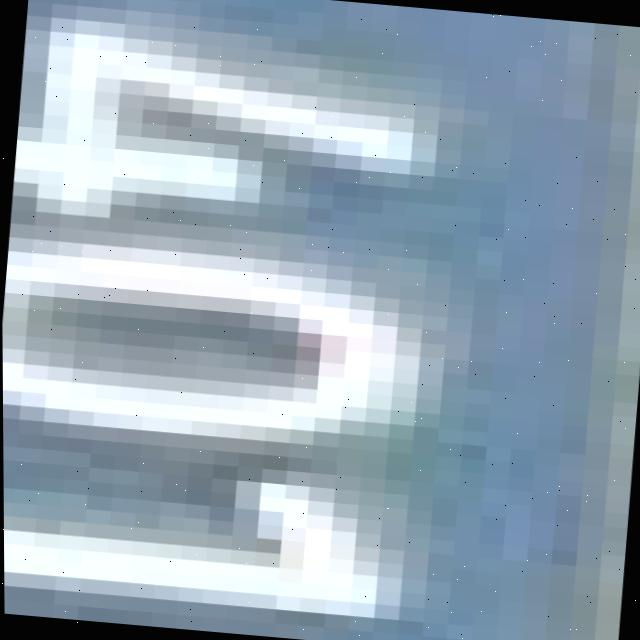character: (8, 0, 496, 249), (2, 223, 451, 456), (3, 444, 434, 635)
